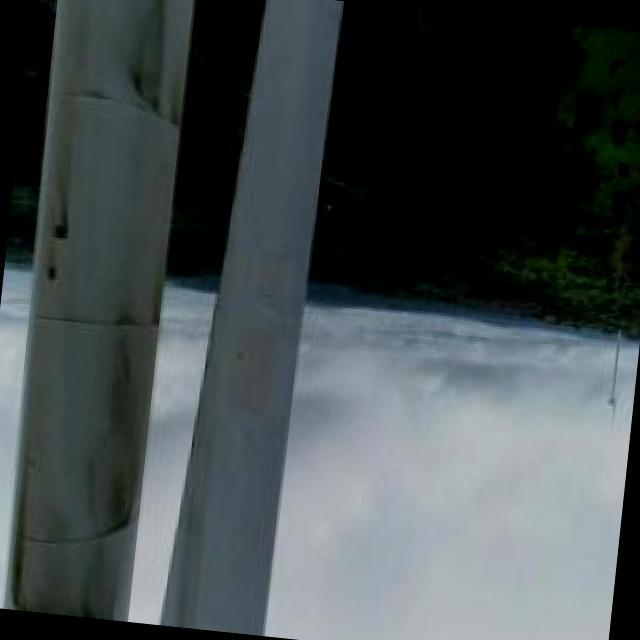Dirt: (12, 0, 200, 624)
